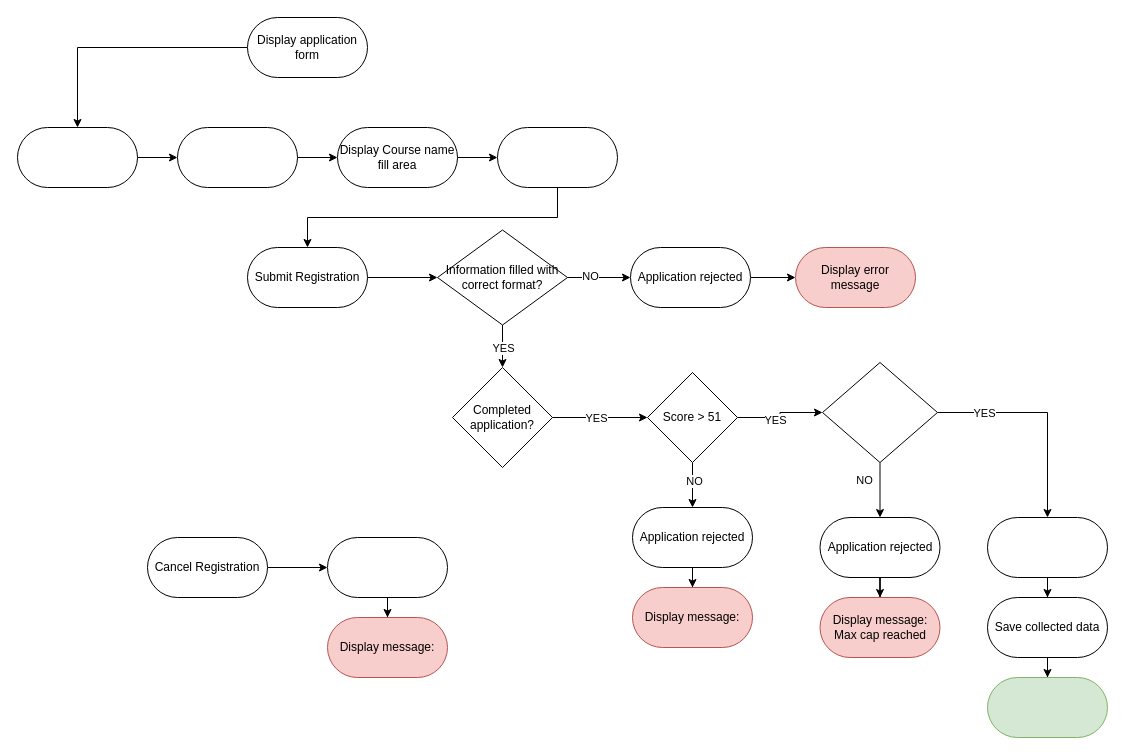
Some shapes in this 1125 by 755 pixel diagram are drawn without their labels. Here are the shapes that lost their labels. From the top down, the centre of each, then its label:
At (77,157): "Display name area to fill".
At (237,157): "Display DNI or CI fill area.".
At (557,157): "Display gender fill area".
At (880,412): "Num accepted students <=30".
At (387,567): "Application cancelled".
At (1047,547): "Application Acepted".
At (1047,707): "Display accepted message".
